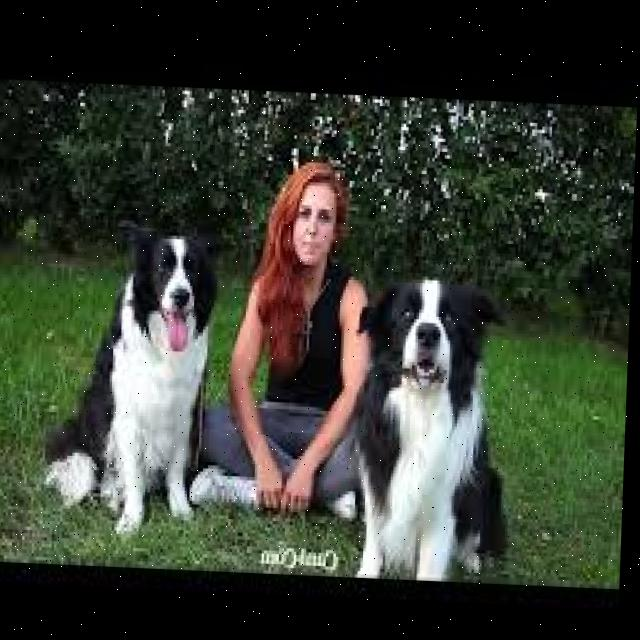BORDER_COLLIE: (31, 213, 230, 534), (351, 254, 519, 584)
